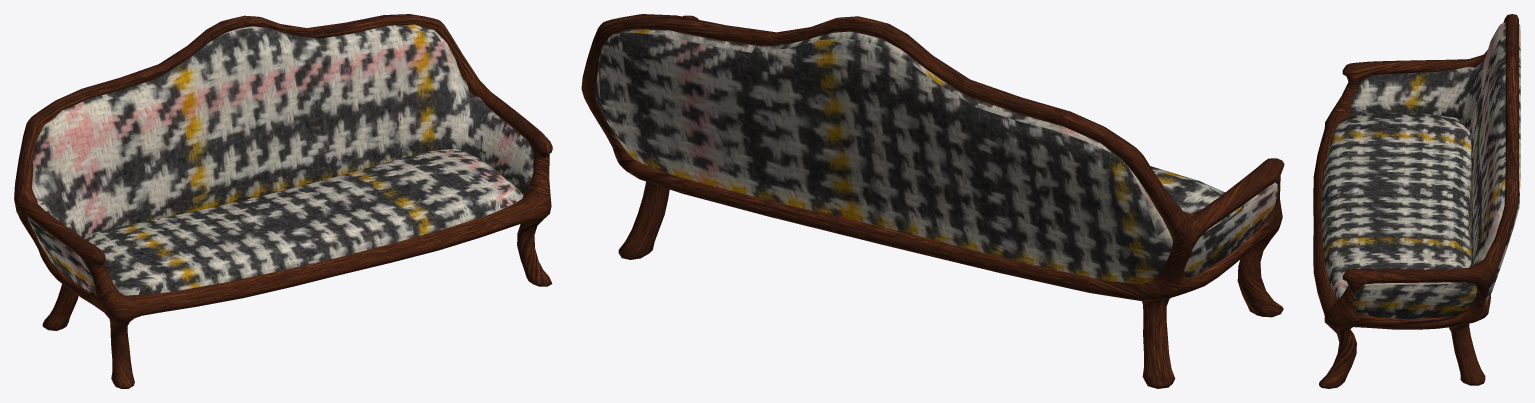
File: Couch.fbx
3 views of the same model, side by side, from view 1: azimuth 30°, elevation 25°; view 2: azimuth 150°, elevation 25°; view 3: azimuth 270°, elevation 25° (orthographic). The views are drawn at different scales.
Parts seen in each view (by area): view 1: Couch; view 2: Couch; view 3: Couch.
Boxes of the visible parts, x1,y1,x2,y2 form: Couch: (14,14,552,388); Couch: (581,14,1284,388); Couch: (1313,14,1520,388).
Size of the model in its own units: 216 by 107 by 87.76.
